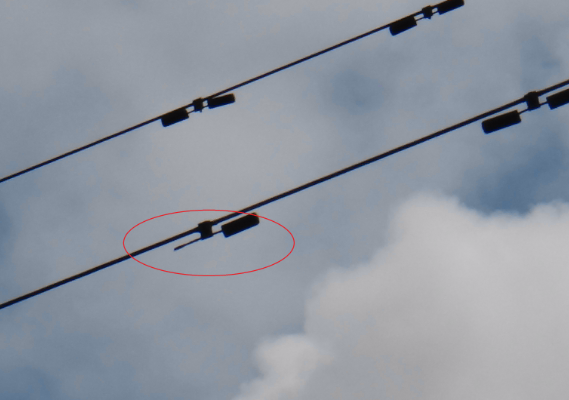damper: (158, 89, 237, 129), (386, 1, 465, 39)
damper_defect: (170, 210, 261, 253)
